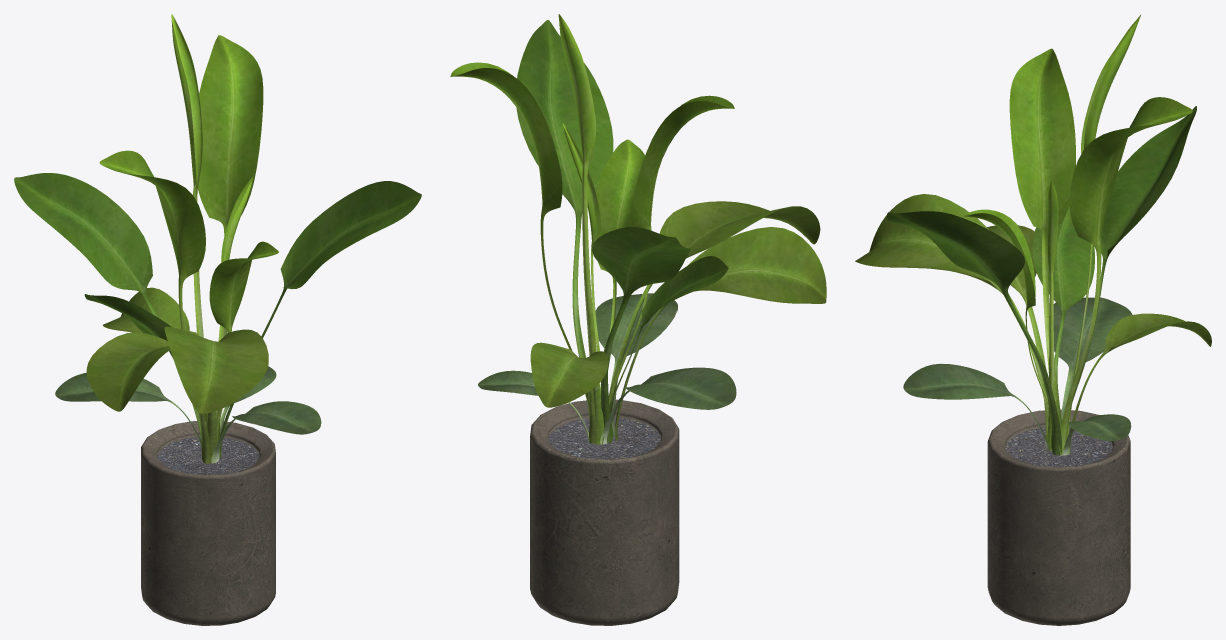
3 renders of one model, left to right at view 1: azimuth 30°, elevation 25°; view 2: azimuth 150°, elevation 25°; view 3: azimuth 270°, elevation 25°, orthographic. The views are drawn at different scales.
Visible parts, largest first — view 1: plant, concrete_pot; view 2: plant, concrete_pot; view 3: plant, concrete_pot.
Part boxes in pixels (box(x1,y1,x2,y2)): plant: box(14, 14, 421, 463); concrete_pot: box(141, 421, 275, 625); plant: box(450, 14, 826, 444); concrete_pot: box(530, 399, 679, 625); plant: box(855, 15, 1211, 455); concrete_pot: box(987, 409, 1130, 625).
Size of the model in its own units: 0.9757 by 1.81 by 0.9984.
2 materials, 2 textured.
